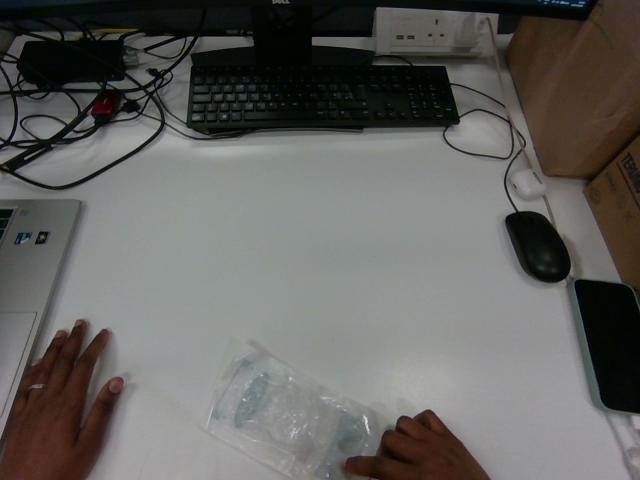gallipot: (207, 345, 379, 479)
